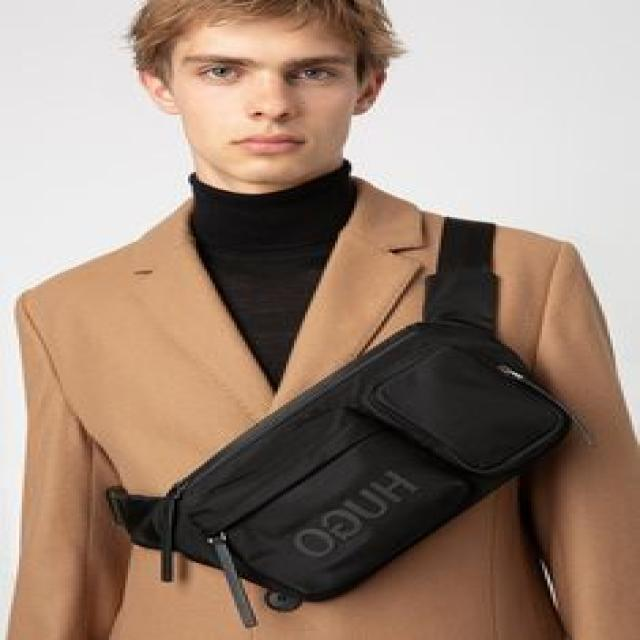handbag: (164, 313, 566, 611)
